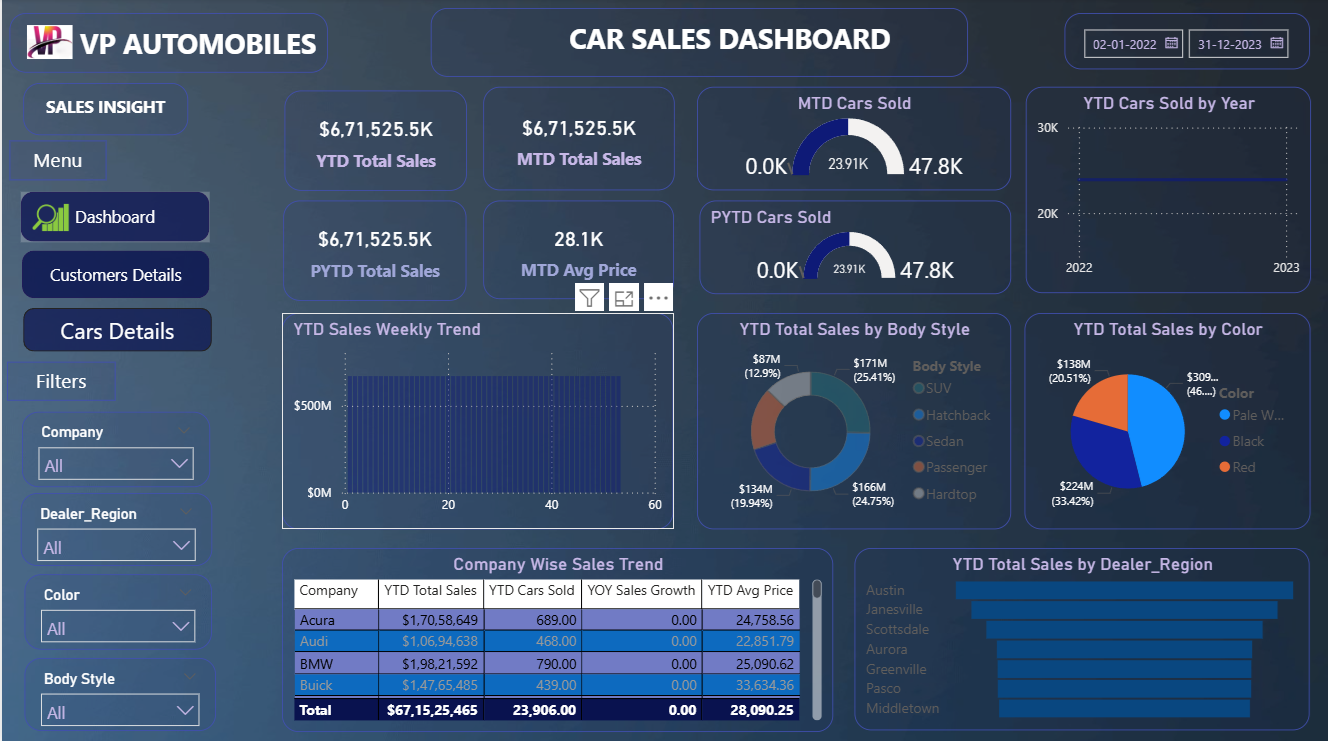

The dashboard page shown, as its layout file describes it:
{"tool":"powerbi","page":{"name":"Car Sales Dashboard","canvas":[1280,720],"ordinal":0},"visuals":[{"type":"textbox","box":[413.8,9.7,518.8,66.4],"z":0},{"type":"textbox","box":[7.2,14.4,307.2,57.7],"z":1000},{"type":"textbox","box":[4.8,351.1,105,37.4],"z":2000},{"type":"slicer","fields":{"Values":["cardata.Dealer_Region"]},"box":[18.6,478.4,184.5,70.1],"z":3000},{"type":"slicer","fields":{"Values":["cardata.Body Style"]},"box":[21.6,637.1,184.5,70.1],"z":4000},{"type":"slicer","fields":{"Values":["cardata.Color"]},"box":[21.6,555.7,180.4,73.2],"z":5000},{"type":"slicer","fields":{"Values":["cardata.Company"]},"box":[19.6,399,181.4,73.2],"z":6000},{"type":"card","fields":{"Values":["calender_data.YTD Total Sales"]},"box":[272.7,89.3,176.1,96.5],"z":7000},{"type":"card","fields":{"Values":["calender_data.MTD Total Sales"]},"box":[464.5,85.7,184.6,100.1],"z":8000},{"type":"card","fields":{"Values":["calender_data.MTD Avg Price"]},"box":[464.6,194.9,183.8,94.9],"z":9000},{"type":"card","fields":{"Values":["calender_data.PYTD Total Sales"]},"box":[270.9,195.3,176.7,96.5],"z":10000},{"type":"lineChart","fields":{"Y":["calender_data.YTD Cars Sold"],"Category":["calender_data.Year"]},"box":[988.1,85.7,275.1,199.1],"z":11000},{"type":"gauge","fields":{"Y":["calender_data.MTD Cars Sold"]},"box":[670.8,85.7,302.8,100.1],"z":12000},{"type":"gauge","fields":{"Y":["calender_data.PYTD Cars Sold"]},"box":[673.2,195.4,300.4,90.5],"z":13000},{"type":"lineClusteredColumnComboChart","title":"YTD Sales Weekly Trend","fields":{"Y":["calender_data.YTD Total Sales"],"Category":["calender_data.Week"]},"box":[270.7,304,377.8,209.1],"z":14000},{"type":"donutChart","fields":{"Y":["calender_data.YTD Total Sales"],"Category":["cardata.Body Style"]},"box":[670.7,304,303,209.1],"z":15000},{"type":"pieChart","fields":{"Y":["calender_data.YTD Total Sales"],"Category":["cardata.Color"]},"box":[986.9,304,275.8,209.1],"z":16000},{"type":"tableEx","title":"Company Wise Sales  Trend","fields":{"Values":["cardata.Company","calender_data.YTD Total Sales","calender_data.YTD Cars Sold","calender_data.YOY Sales Growth","calender_data.YTD Avg Price"]},"box":[270.2,530.8,532,177.3],"z":17000},{"type":"slicer","fields":{"Values":["calender_data.Date"]},"box":[1025.8,14.4,237.1,54.6],"z":18000},{"type":"funnel","fields":{"Y":["calender_data.YTD Total Sales"],"Category":["cardata.Dealer_Region"]},"box":[822.8,530.8,439.1,176.1],"z":19000},{"type":"pageNavigator","box":[19.6,243.3,181.4,46.4],"z":20000},{"type":"textbox","box":[7.2,137.1,93.8,38.1],"z":21000},{"type":"textbox","box":[20.5,82,159.3,50.7],"z":22000},{"type":"pageNavigator","title":"Details","box":[20.5,299.2,182.2,42.2],"z":23000},{"type":"pageNavigator","box":[18.6,186.6,182.5,48.5],"z":24000},{"type":"image","box":[19.6,17.5,53.6,49.5],"z":25000},{"type":"image","box":[19.6,187.6,55.7,47.4],"z":26000}]}

Visuals, with their boxes in screenshot pixels (x1, y1, x2, y2), scaled from the page's 1280x720 canvas onto the 1328x741 screenshot:
textbox: detection(429, 10, 968, 78)
textbox: detection(7, 15, 326, 74)
textbox: detection(5, 361, 114, 400)
slicer - cardata.Dealer_Region: detection(19, 492, 211, 564)
slicer - cardata.Body Style: detection(22, 656, 214, 728)
slicer - cardata.Color: detection(22, 572, 210, 647)
slicer - cardata.Company: detection(20, 411, 209, 486)
card - calender_data.YTD Total Sales: detection(283, 92, 466, 191)
card - calender_data.MTD Total Sales: detection(482, 88, 673, 191)
card - calender_data.MTD Avg Price: detection(482, 201, 673, 298)
card - calender_data.PYTD Total Sales: detection(281, 201, 464, 300)
lineChart - calender_data.YTD Cars Sold x calender_data.Year: detection(1025, 88, 1311, 293)
gauge - calender_data.MTD Cars Sold: detection(696, 88, 1010, 191)
gauge - calender_data.PYTD Cars Sold: detection(698, 201, 1010, 294)
"YTD Sales Weekly Trend" lineClusteredColumnComboChart: detection(281, 313, 673, 528)
donutChart - calender_data.YTD Total Sales x cardata.Body Style: detection(696, 313, 1010, 528)
pieChart - calender_data.YTD Total Sales x cardata.Color: detection(1024, 313, 1310, 528)
"Company Wise Sales  Trend" tableEx: detection(280, 546, 832, 729)
slicer - calender_data.Date: detection(1064, 15, 1310, 71)
funnel - calender_data.YTD Total Sales x cardata.Dealer_Region: detection(854, 546, 1309, 728)
pageNavigator: detection(20, 250, 209, 298)
textbox: detection(7, 141, 105, 180)
textbox: detection(21, 84, 187, 137)
"Details" pageNavigator: detection(21, 308, 210, 351)
pageNavigator: detection(19, 192, 209, 242)
image: detection(20, 18, 76, 69)
image: detection(20, 193, 78, 242)
